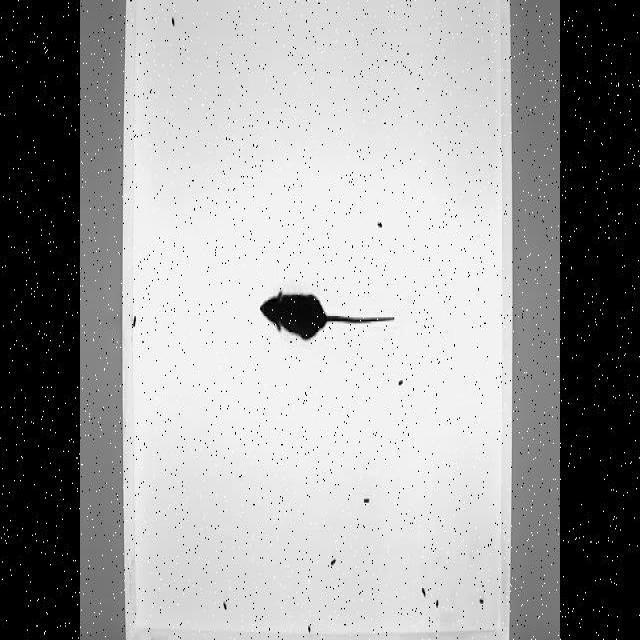rat: (257, 283, 397, 348)
